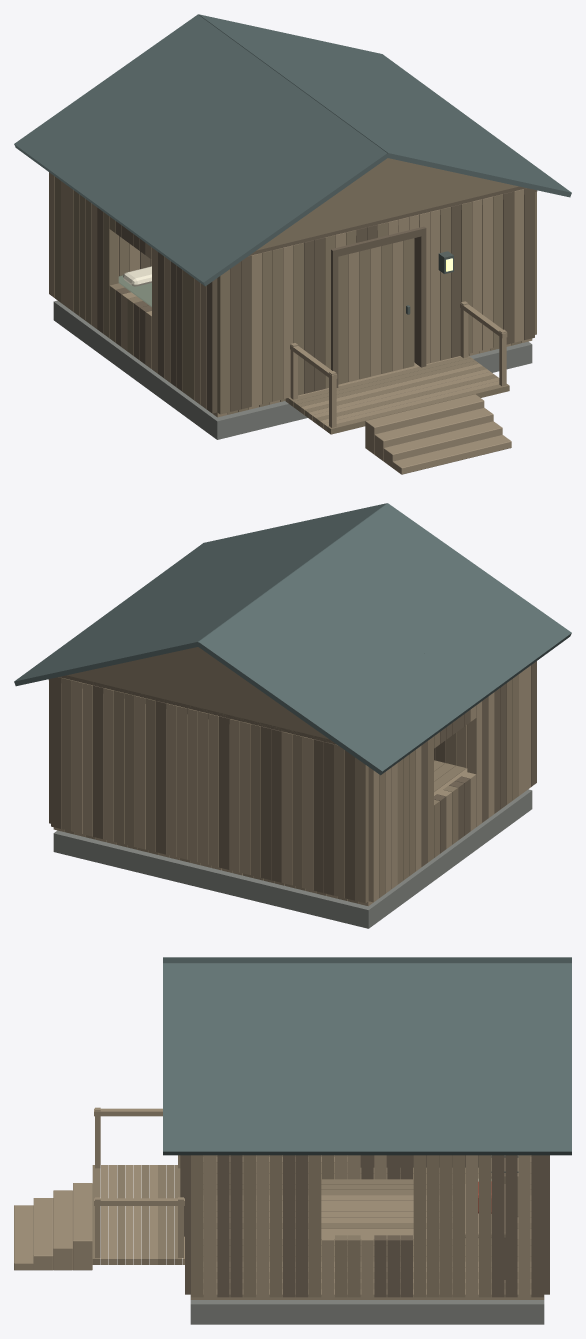
Rendered from cabin.glb.
3 views of the same model, one above another, from view 1: azimuth 30°, elevation 25°; view 2: azimuth 150°, elevation 25°; view 3: azimuth 270°, elevation 25° (orthographic). The views are drawn at different scales.
Visible parts, largest first — view 1: Timber gable.001, Foundation, Roof panel.011, Roof panel, Roof panel.003, Roof panel.006, Roof panel.007, Roof panel.009, Roof panel.005, Roof panel.010, Roof panel.001, Roof panel.004 (+82 smaller); view 2: Foundation, Timber gable, Roof panel.011, Roof panel, Roof panel.003, Roof panel.009, Roof panel.007, Roof panel.005, Roof panel.001, Roof panel.006, Roof panel.002, Roof panel.004 (+65 smaller); view 3: Foundation, Roof panel.023, Roof panel.012, Roof panel.015, Roof panel.021, Roof panel.017, Roof panel.019, Roof panel.018, Roof panel.022, Roof panel.013, Roof panel.016, Roof panel.020 (+60 smaller).
Part boxes in pixels (bbox=[...]): Timber gable.001: bbox=[256, 158, 518, 250]; Foundation: bbox=[53, 300, 532, 439]; Roof panel.011: bbox=[14, 132, 220, 286]; Roof panel: bbox=[182, 14, 388, 167]; Roof panel.003: bbox=[136, 47, 342, 200]; Roof panel.006: bbox=[90, 79, 297, 232]; Roof panel.007: bbox=[75, 90, 281, 243]; Roof panel.009: bbox=[46, 111, 251, 264]; Roof panel.005: bbox=[106, 68, 312, 221]; Roof panel.010: bbox=[30, 122, 235, 275]; Roof panel.001: bbox=[166, 26, 373, 178]; Roof panel.004: bbox=[121, 58, 327, 210]; Foundation: bbox=[53, 789, 532, 928]; Timber gable: bbox=[67, 647, 333, 743]; Roof panel.011: bbox=[365, 621, 571, 775]; Roof panel: bbox=[197, 503, 403, 656]; Roof panel.003: bbox=[243, 535, 449, 689]; Roof panel.009: bbox=[334, 600, 541, 753]; Roof panel.007: bbox=[303, 578, 510, 731]; Roof panel.005: bbox=[273, 557, 479, 710]; Roof panel.001: bbox=[213, 515, 419, 667]; Roof panel.006: bbox=[289, 568, 494, 721]; Roof panel.002: bbox=[228, 525, 433, 678]; Roof panel.004: bbox=[258, 547, 463, 699]; Foundation: bbox=[190, 1300, 544, 1324]; Roof panel.023: bbox=[163, 1134, 571, 1155]; Roof panel.012: bbox=[163, 963, 571, 979]; Roof panel.015: bbox=[163, 1010, 571, 1026]; Roof panel.021: bbox=[163, 1103, 571, 1120]; Roof panel.017: bbox=[163, 1041, 571, 1057]; Roof panel.019: bbox=[163, 1072, 571, 1088]; Roof panel.018: bbox=[163, 1057, 571, 1073]; Roof panel.022: bbox=[163, 1119, 571, 1135]; Roof panel.013: bbox=[163, 980, 571, 995]; Roof panel.016: bbox=[163, 1026, 571, 1041]; Roof panel.020: bbox=[163, 1089, 571, 1104].
Bounding box in the file's own units: 7.02 × 4.69 × 8.53.
